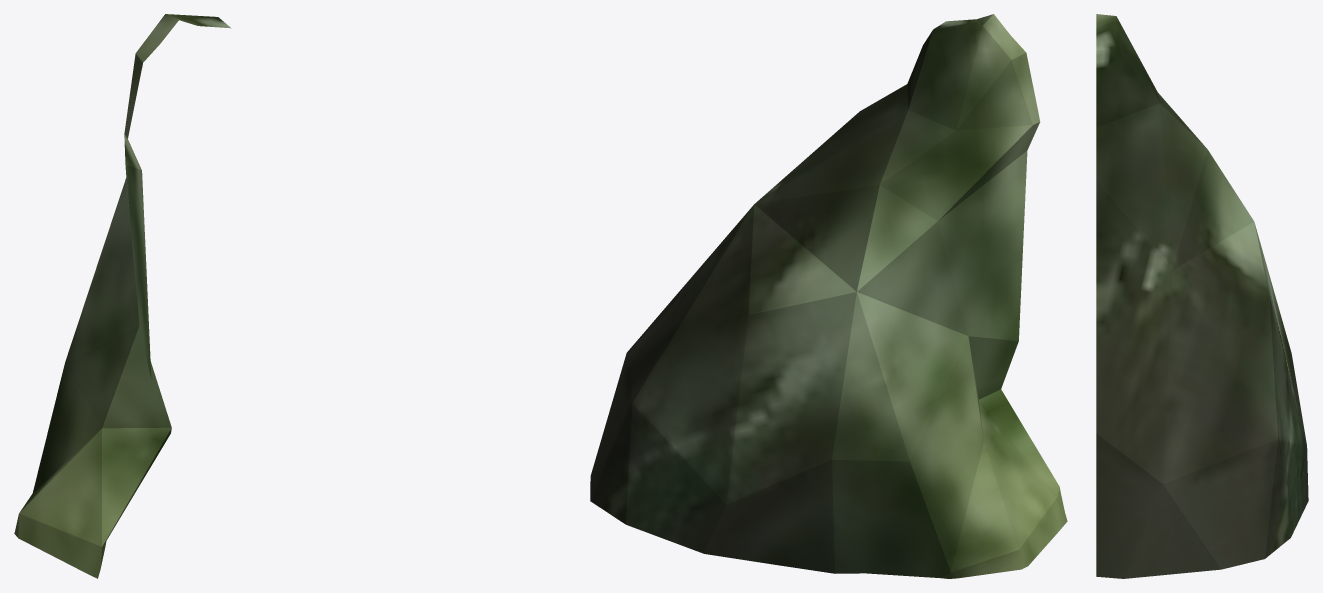
3 views of the same model, side by side, from view 1: azimuth 30°, elevation 25°; view 2: azimuth 150°, elevation 25°; view 3: azimuth 270°, elevation 25° (orthographic). The views are drawn at different scales.
Bounding box in the file's own units: 0.7105 × 0.7505 × 0.3453.
1 material, 1 textured.
